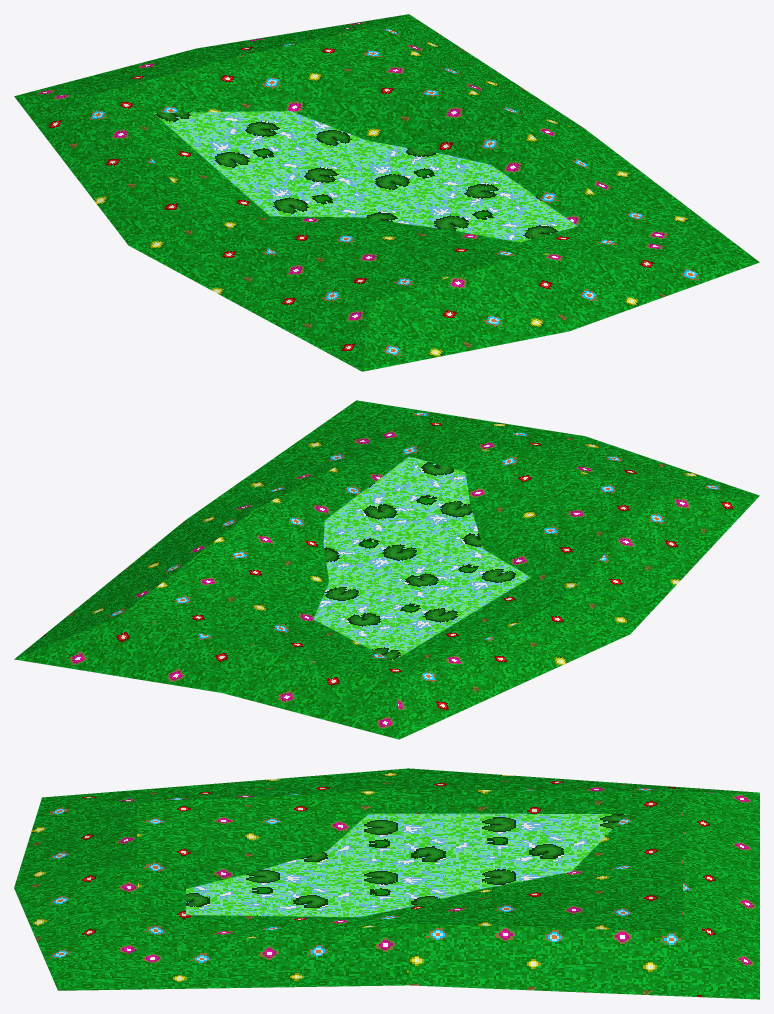
File: BGN_LILYPAD WAER .fbx
3 renders of one model, top to bottom at view 1: azimuth 30°, elevation 25°; view 2: azimuth 150°, elevation 25°; view 3: azimuth 270°, elevation 25°, orthographic. The views are drawn at different scales.
Visible parts, largest first — view 1: BGN_LILYPAD_WAER_; view 2: BGN_LILYPAD_WAER_; view 3: BGN_LILYPAD_WAER_.
Boxes of the visible parts, x1,y1,x2,y2 form: BGN_LILYPAD_WAER_: (14,14,759,371); BGN_LILYPAD_WAER_: (14,400,759,739); BGN_LILYPAD_WAER_: (14,768,759,999).
Bounding box in the file's own units: 1281 × 112 × 1813.
